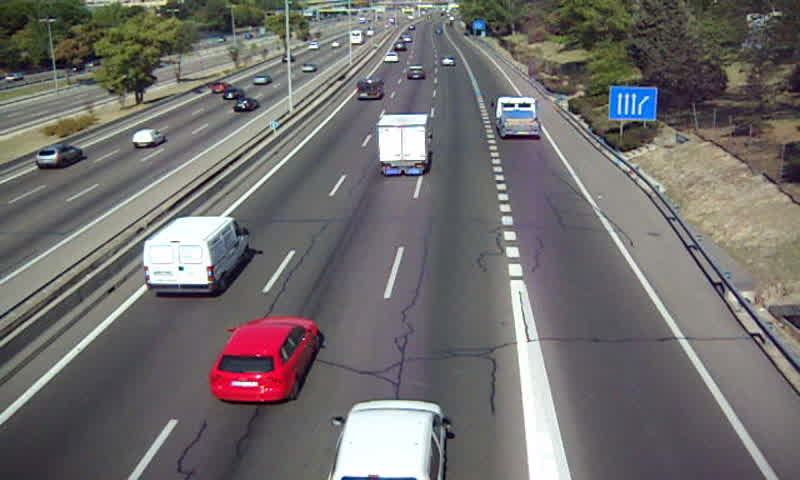car: (208, 318, 318, 406), (325, 400, 445, 480), (406, 64, 426, 81), (382, 51, 398, 64), (440, 56, 457, 68)
small-truck: (376, 114, 430, 176), (496, 96, 540, 138)
van: (145, 217, 248, 295), (355, 76, 385, 101)
